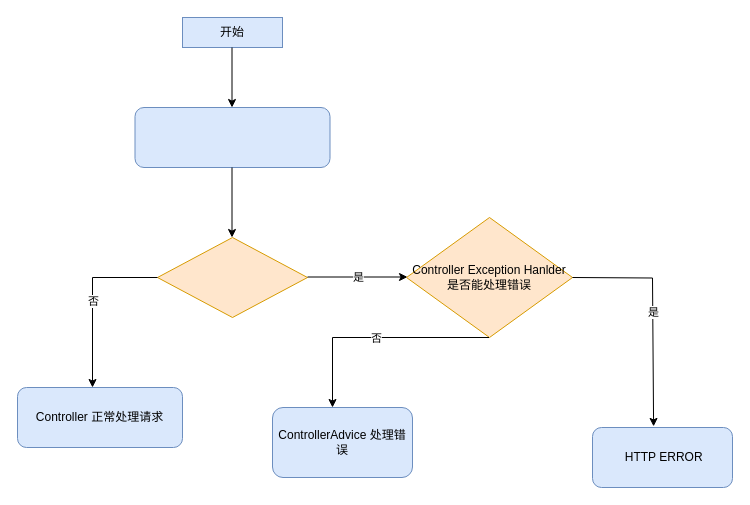
This 750x505 diagram has some shape labels left out. Here are the shapes that lost their labels. From the top down, the centre of each, then its label:
At point (232, 137): "DispatcherServlet doDispatch() throw Exception".
At point (232, 277): "是否存在错误？".
